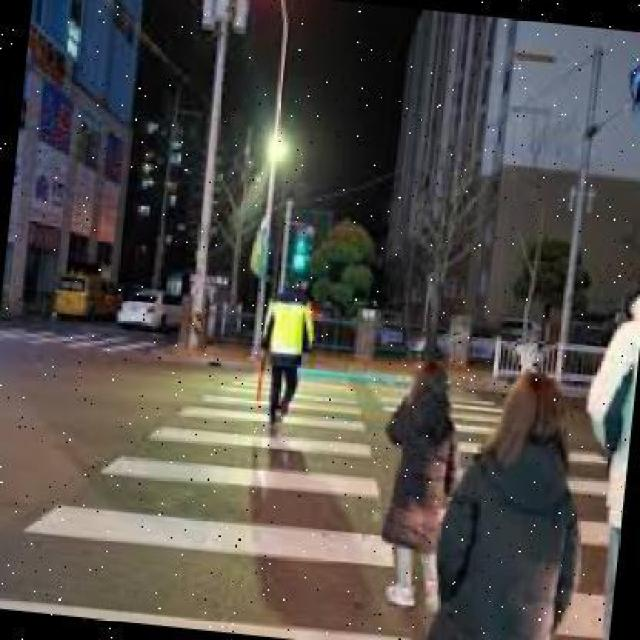Person: (423, 363, 591, 639), (367, 332, 467, 614), (248, 257, 323, 434)
